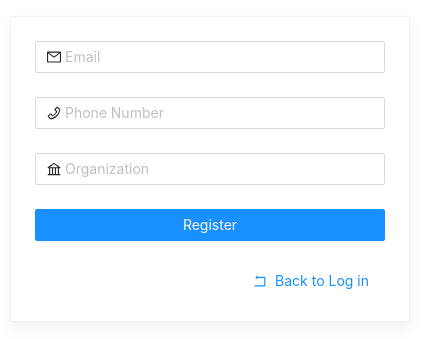
Register Form Test › should prevent non-standard input
In the field with placeholder "Phone Number": point(219, 113) [65, 102, 373, 124], type "12345"
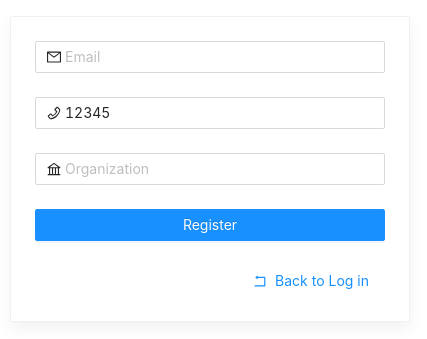
In the field with placeholder "Email": point(219, 57) [65, 46, 373, 68], type "123"
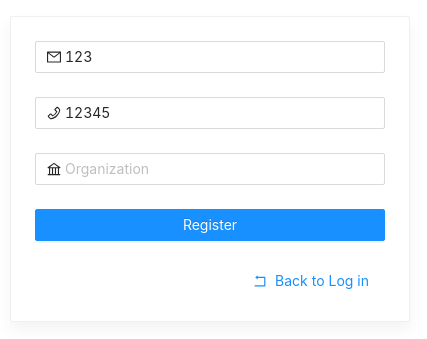
In the field with placeholder "Organization": point(219, 169) [65, 158, 373, 180], type "test"
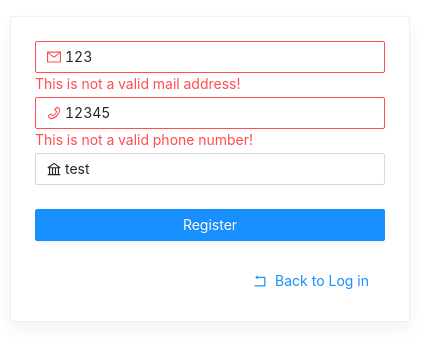
Check: the message "This is not a valid phone number!" is shown, box [35, 131, 253, 148]
